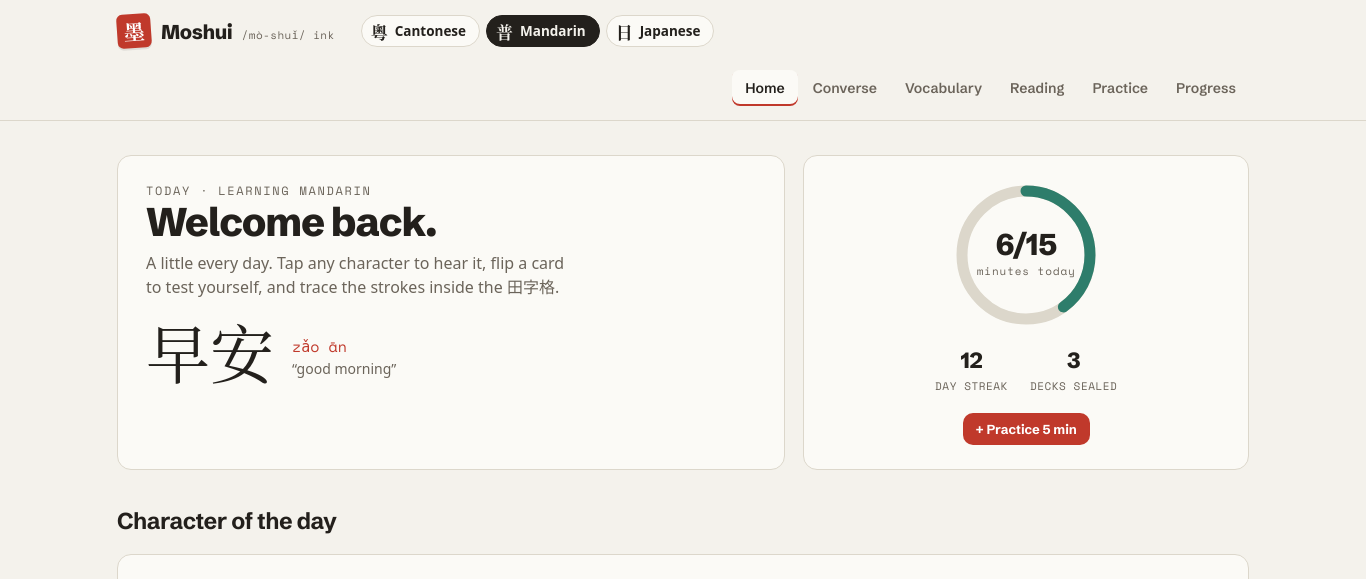
progress persistence (T2) › hydrates a persisted quiz tally from localStorage
Click the button "Progress": (1206, 88) 1163,70 -> 1249,106
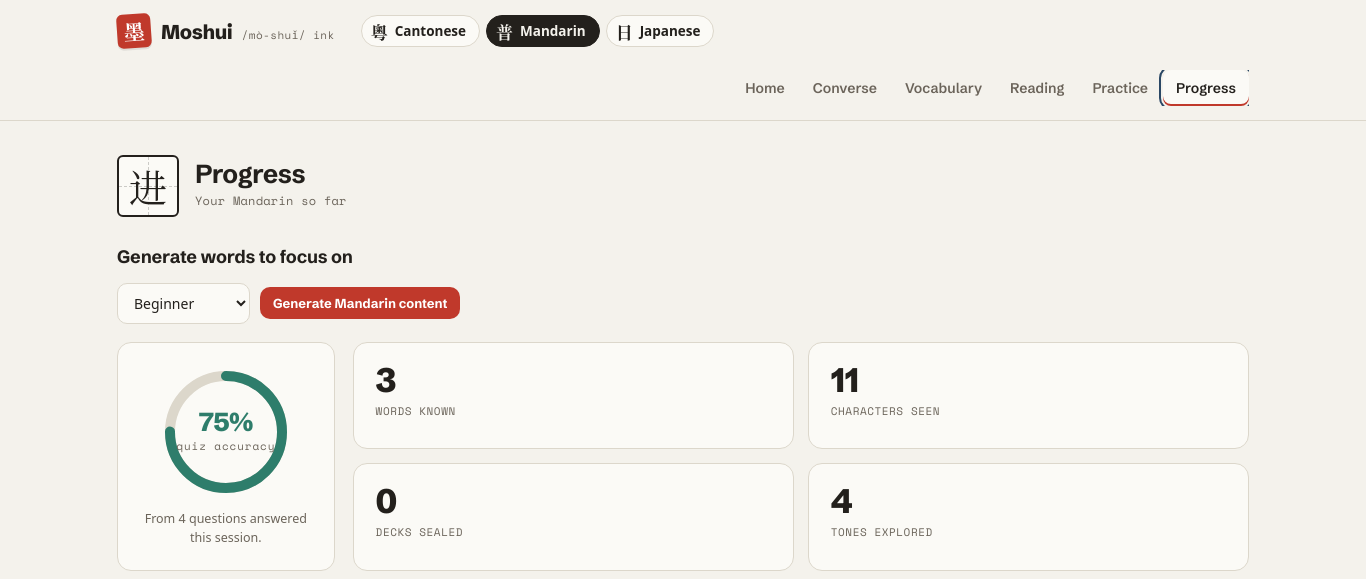
expect the text "75%" is shown: met, box 199,406 -> 253,438
